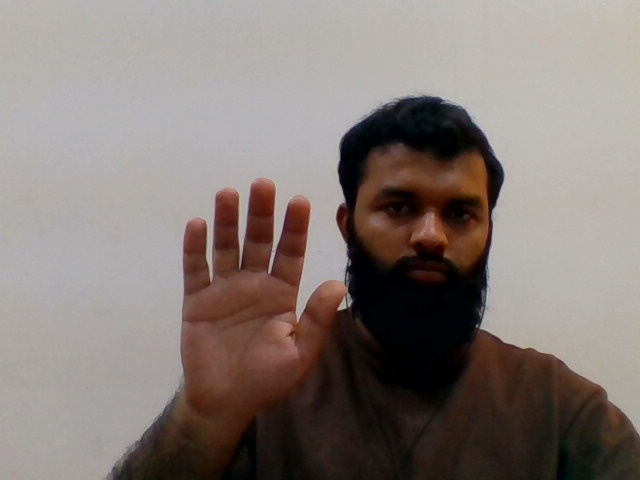Hello: (175, 168, 347, 411)
